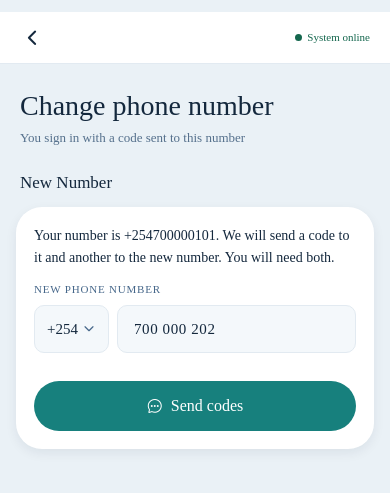
it: changing the phone number › puts a number already in use under the field
The width and height of the screenshot is (390, 493).
Earlier steps of the test are not shown.
Click the button labelled "Send codes".
click(195, 406)  # box [34, 381, 356, 431]
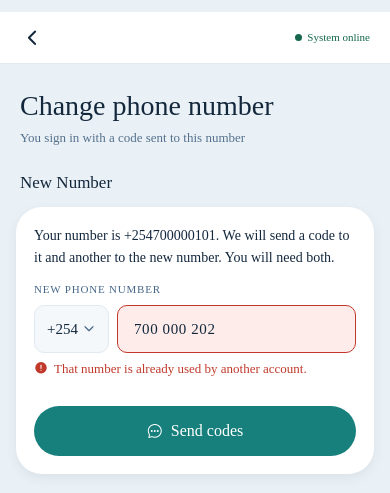
Check: the text "That number is already used by another account." is shown, box [54, 361, 307, 376]
